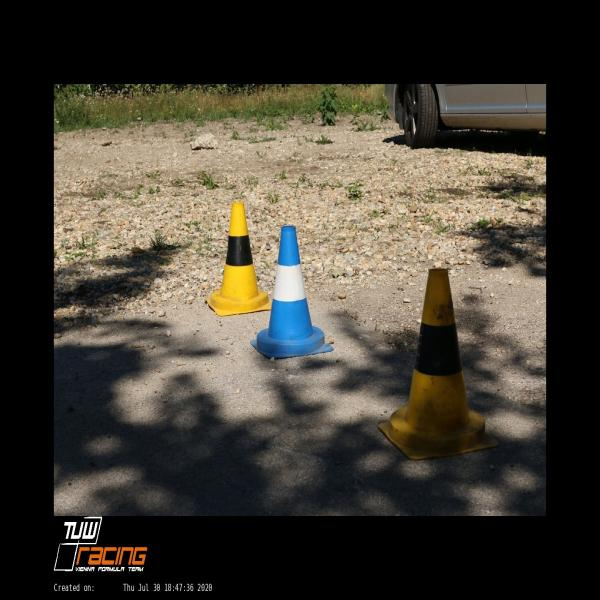blue_cone: (250, 225, 334, 359)
yellow_cone: (378, 267, 498, 458), (204, 202, 272, 316)
